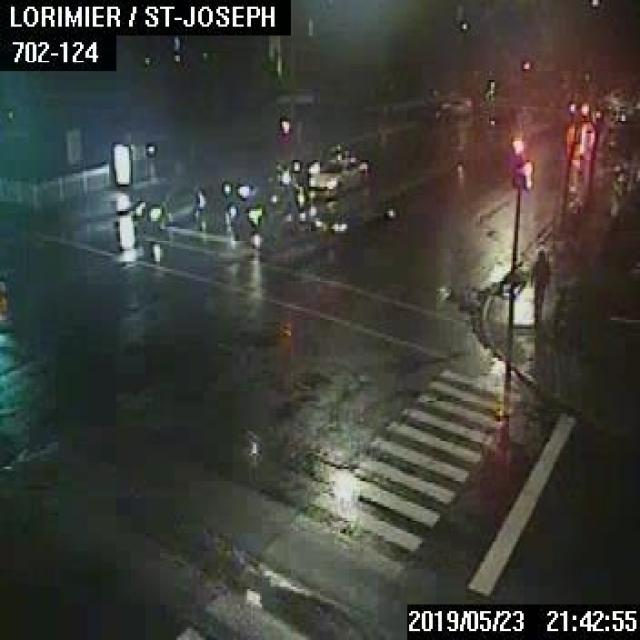pedestrian: (529, 246, 550, 318)
vehicle: (227, 184, 294, 237), (133, 184, 203, 228), (290, 142, 349, 181), (307, 158, 363, 198)
